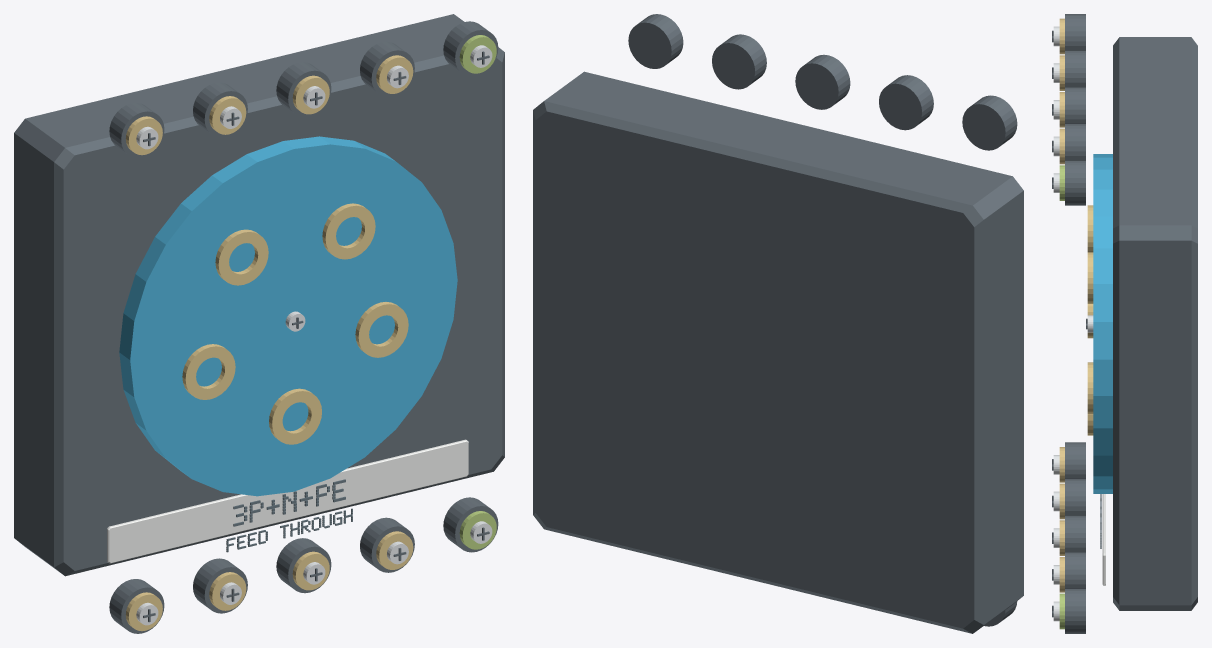
Rendered from industrialSocket.glb.
The picture shows the model from 3 angles, left to right: view 1: azimuth 30°, elevation 25°; view 2: azimuth 150°, elevation 25°; view 3: azimuth 270°, elevation 25°; orthographic projection. The views are drawn at different scales.
Visible parts, largest first — view 1: industrialSocket-detailed; view 2: industrialSocket-detailed; view 3: industrialSocket-detailed.
Part boxes in pixels (box(x1,y1,x2,y2)): industrialSocket-detailed: box(14, 14, 504, 633); industrialSocket-detailed: box(533, 14, 1023, 633); industrialSocket-detailed: box(1052, 14, 1197, 633).
Bounding box in the file's own units: 3.26 × 3.61 × 1.01.
